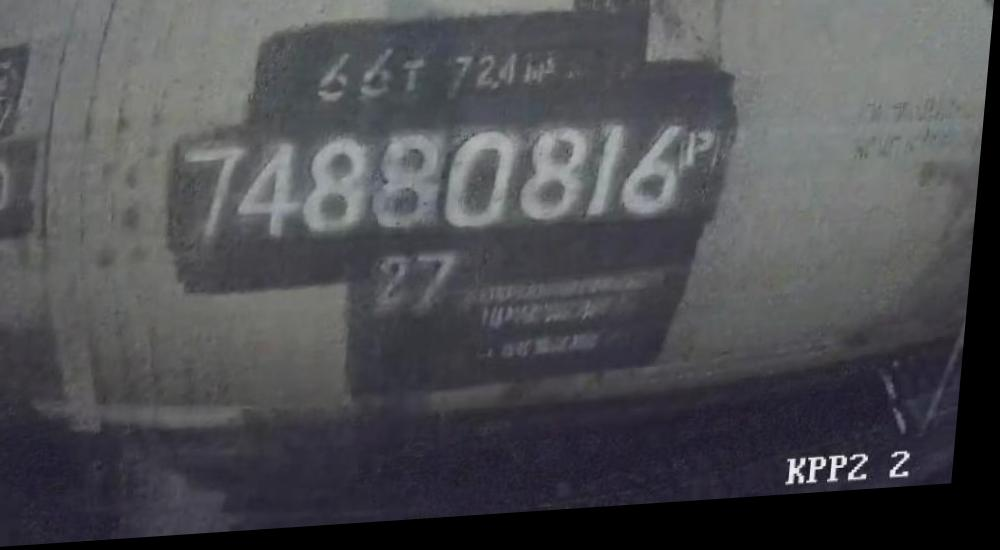Wagon-number: (177, 116, 694, 254)
